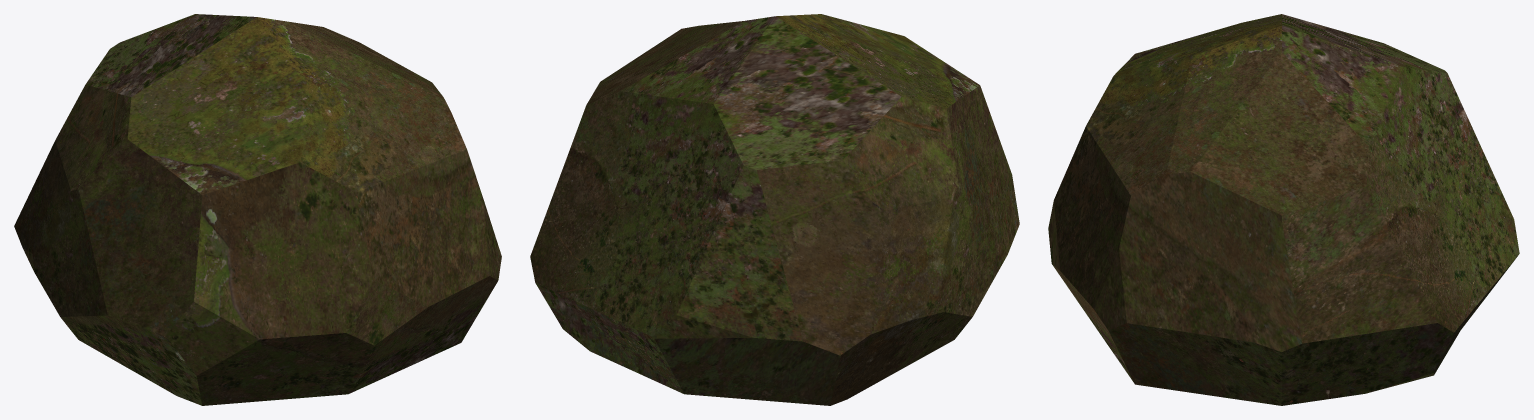
The model's file is Rock4.fbx.
3 views of the same model, side by side, from view 1: azimuth 30°, elevation 25°; view 2: azimuth 150°, elevation 25°; view 3: azimuth 270°, elevation 25° (orthographic). The views are drawn at different scales.
Visible parts, largest first — view 1: Rock4; view 2: Rock4; view 3: Rock4.
Boxes of the visible parts, x1,y1,x2,y2 form: Rock4: (14, 14, 501, 405); Rock4: (530, 14, 1019, 405); Rock4: (1048, 14, 1519, 405).
Bounding box in the file's own units: 335 × 244 × 341.
1 material, 1 textured.
